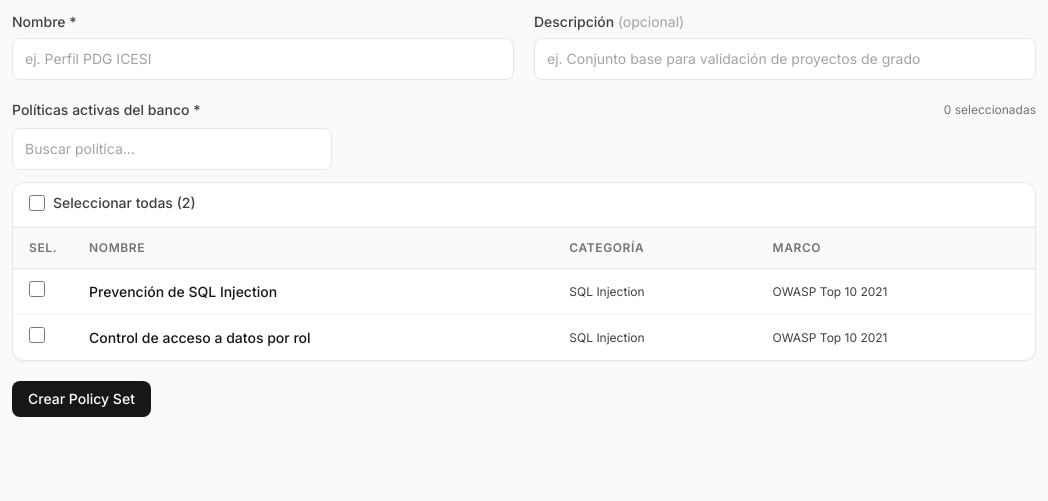
Scenario: PolicySetCreateForm › requires at least one policy selected
This screenshot has width=1048, height=501.
Step 1. Type "Perfil PDG ICESI" into the field labelled "Nombre *" → (263, 59), box [12,38,514,80]
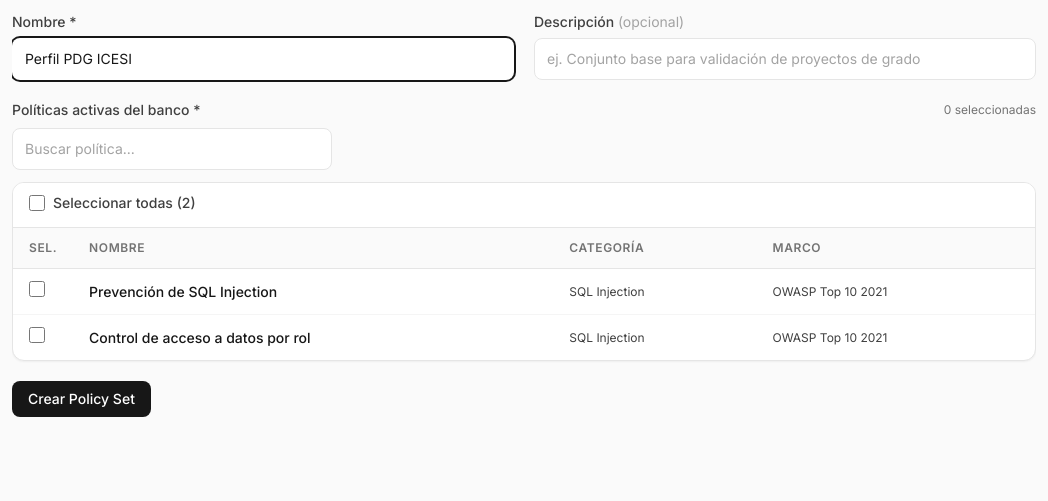
Step 2. Click the button "Crear Policy Set" → (81, 399), box [12,381,151,417]
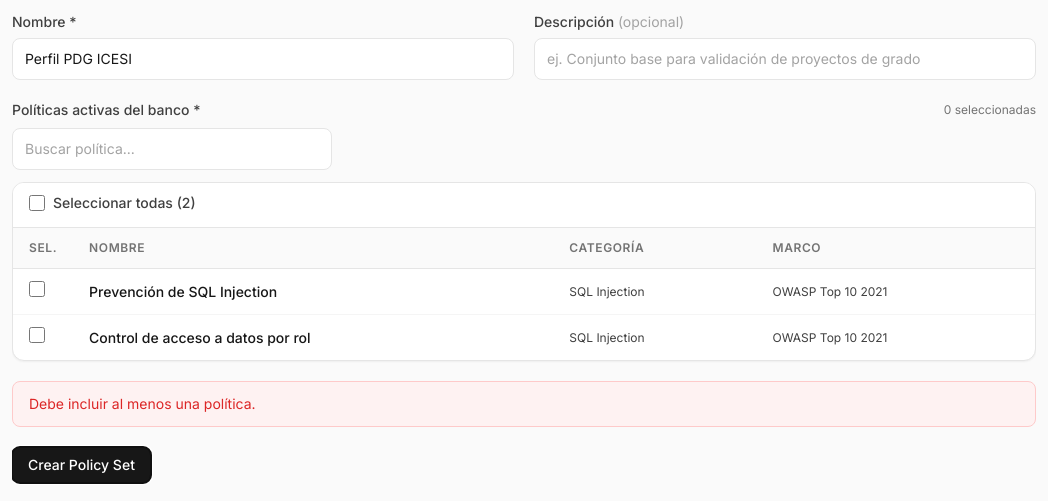
Expected: the text "Debe incluir al menos una política." is shown, [12,381,1036,427]
